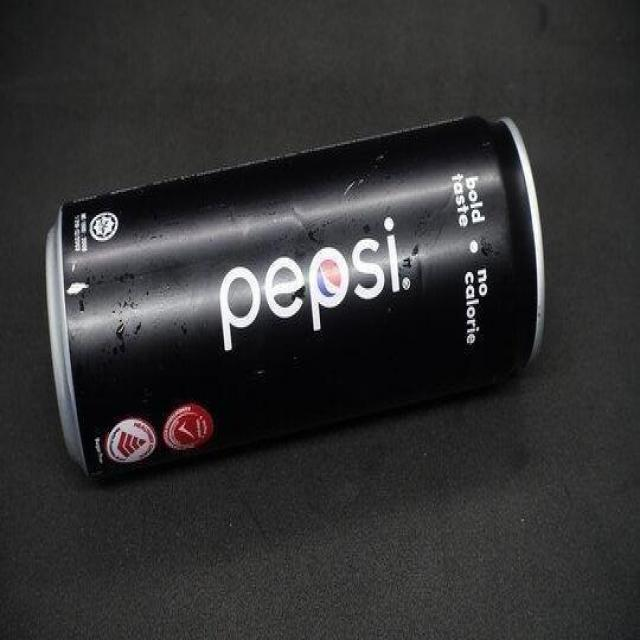tin can: (41, 106, 548, 484)
